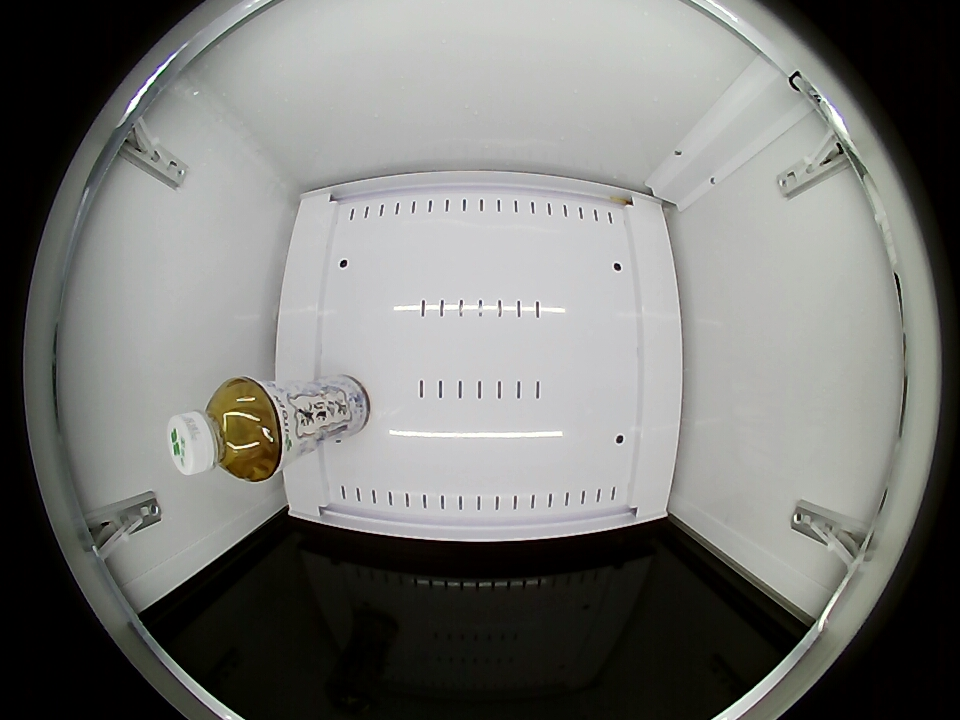baicha: (168, 378, 282, 482)
